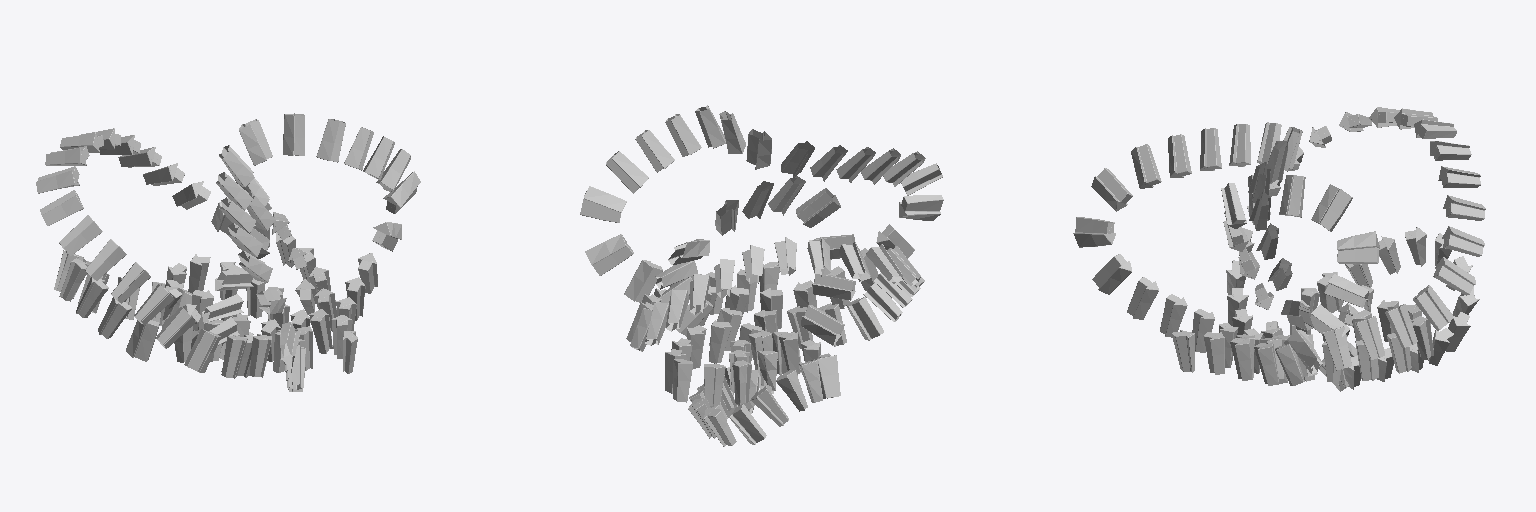
Rendered from room3.obj.
The picture shows the model from 3 angles: view 1: azimuth 30°, elevation 25°; view 2: azimuth 150°, elevation 25°; view 3: azimuth 270°, elevation 25°; orthographic projection.
Size of the model in its own units: 17.9 by 13.01 by 18.36.